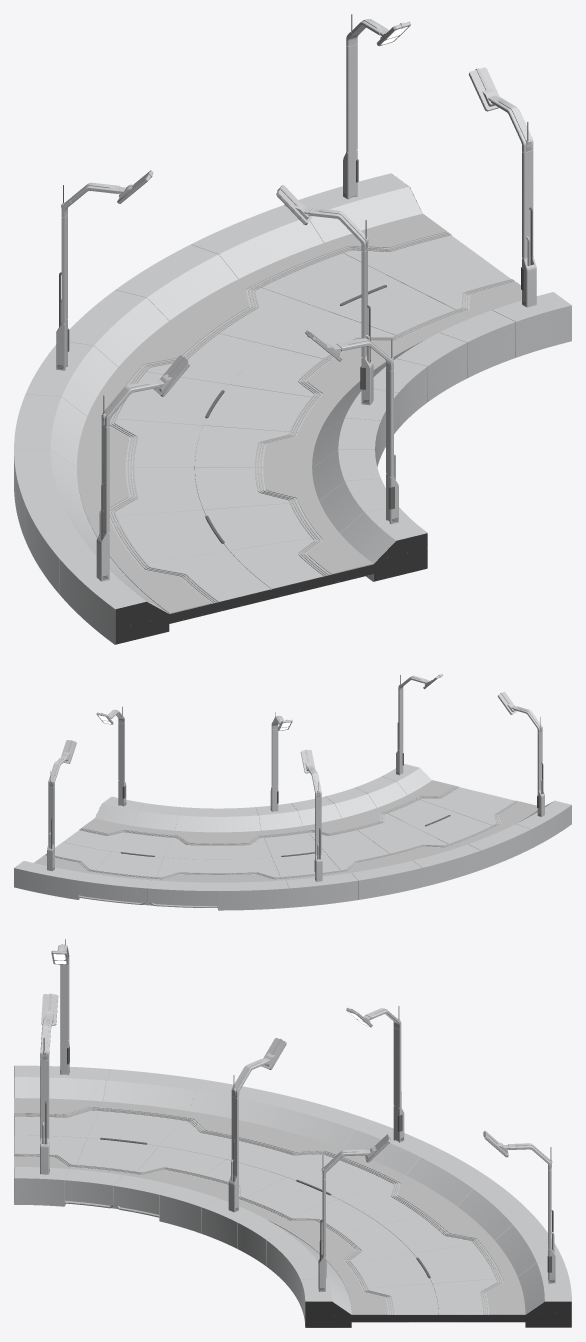
Rendered from K051_高科技街道_42.fbx.
The picture shows the model from 3 angles, top to bottom: view 1: azimuth 30°, elevation 25°; view 2: azimuth 150°, elevation 25°; view 3: azimuth 270°, elevation 25°; orthographic projection. The views are drawn at different scales.
Visible parts, largest first — view 1: KB3D_HTS_Road_E_Main, KB3D_HTS_Road_E_LampA, KB3D_HTS_Road_E_LampC, KB3D_HTS_Road_E_LampB, KB3D_HTS_Road_E_LampE, KB3D_HTS_Road_E_LampF, KB3D_HTS_Road_E_LampD; view 2: KB3D_HTS_Road_E_Main, KB3D_HTS_Road_E_LampF, KB3D_HTS_Road_E_LampB, KB3D_HTS_Road_E_LampC, KB3D_HTS_Road_E_LampE, KB3D_HTS_Road_E_LampA, KB3D_HTS_Road_E_LampD; view 3: KB3D_HTS_Road_E_Main, KB3D_HTS_Road_E_LampD, KB3D_HTS_Road_E_LampE, KB3D_HTS_Road_E_LampF, KB3D_HTS_Road_E_LampC, KB3D_HTS_Road_E_LampA, KB3D_HTS_Road_E_LampB.
Boxes of the visible parts, <box> form: KB3D_HTS_Road_E_Main: <box>14,173,571,644</box>; KB3D_HTS_Road_E_LampA: <box>468,67,536,307</box>; KB3D_HTS_Road_E_LampC: <box>96,355,190,581</box>; KB3D_HTS_Road_E_LampB: <box>343,14,410,199</box>; KB3D_HTS_Road_E_LampE: <box>276,185,373,405</box>; KB3D_HTS_Road_E_LampF: <box>56,170,153,370</box>; KB3D_HTS_Road_E_LampD: <box>305,330,398,524</box>; KB3D_HTS_Road_E_Main: <box>14,764,571,910</box>; KB3D_HTS_Road_E_LampF: <box>300,749,322,881</box>; KB3D_HTS_Road_E_LampB: <box>47,740,76,871</box>; KB3D_HTS_Road_E_LampC: <box>497,691,544,816</box>; KB3D_HTS_Road_E_LampE: <box>270,712,292,811</box>; KB3D_HTS_Road_E_LampA: <box>96,706,126,806</box>; KB3D_HTS_Road_E_LampD: <box>396,673,442,775</box>; KB3D_HTS_Road_E_Main: <box>14,1065,571,1327</box>; KB3D_HTS_Road_E_LampD: <box>40,993,58,1174</box>; KB3D_HTS_Road_E_LampE: <box>228,1038,286,1212</box>; KB3D_HTS_Road_E_LampF: <box>346,1006,404,1142</box>; KB3D_HTS_Road_E_LampC: <box>51,939,69,1075</box>; KB3D_HTS_Road_E_LampA: <box>318,1134,390,1291</box>; KB3D_HTS_Road_E_LampB: <box>483,1130,555,1283</box>.
Size of the model in its own units: 16.73 by 5.89 by 16.73.
